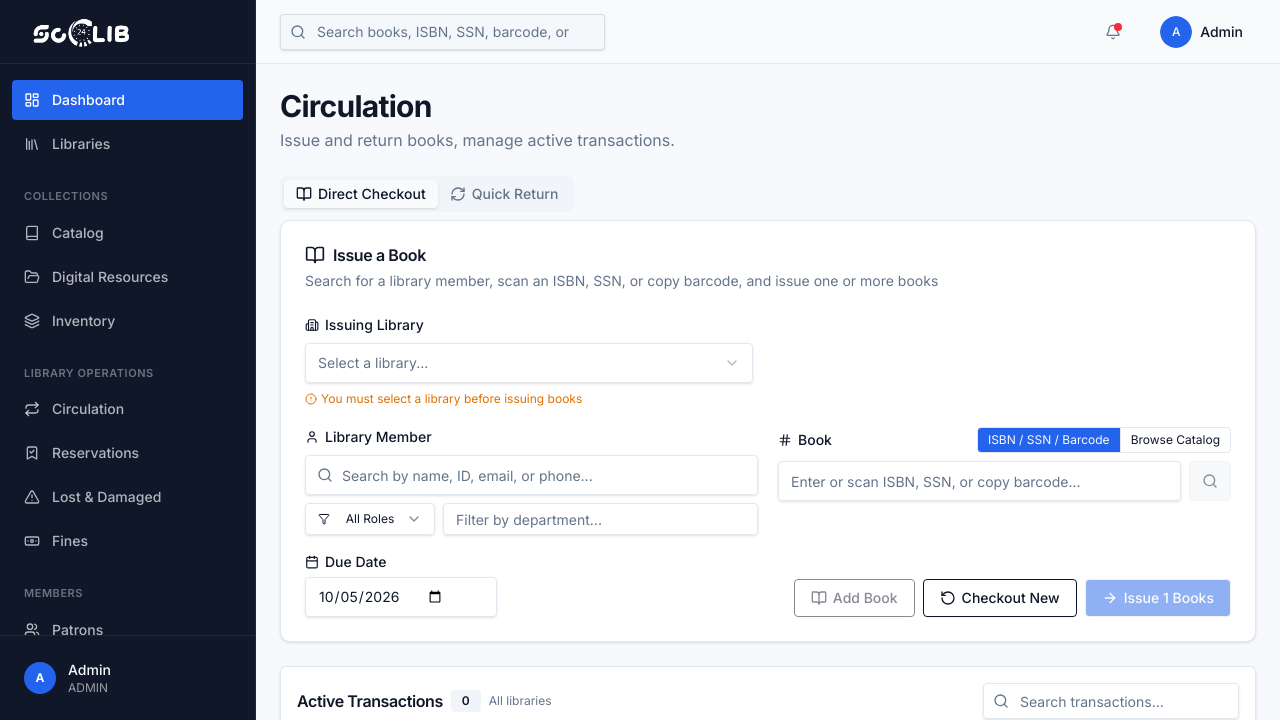
it: CirculationPage checkout › keeps Issue Book disabled until library, member, book, and copy prerequisites are ready
expect the button with test id "button-issue" is disabled: met, box x1=1085 y1=579 x2=1231 y2=617
Click the dropdown with test id "select-library".
click(373, 362)  # box x1=305 y1=343 x2=753 y2=383
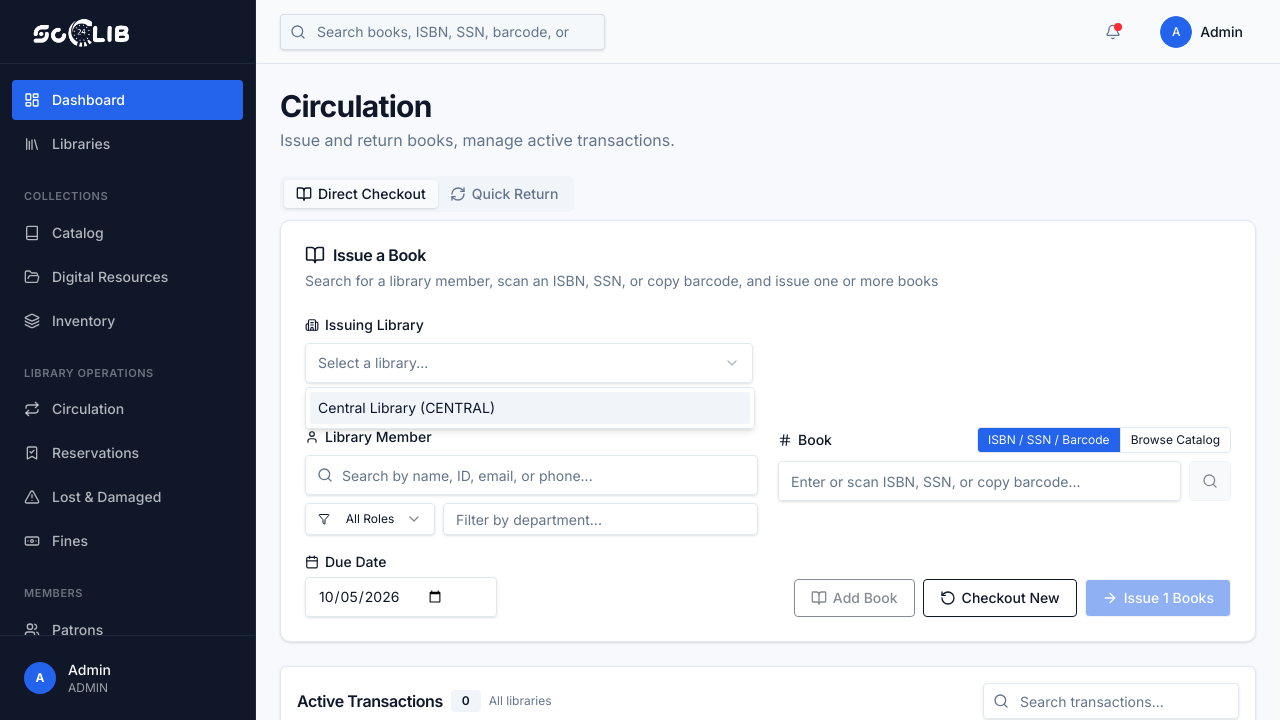
Click the option "Central Library (CENTRAL)".
click(367, 408)  # box x1=310 y1=392 x2=750 y2=424
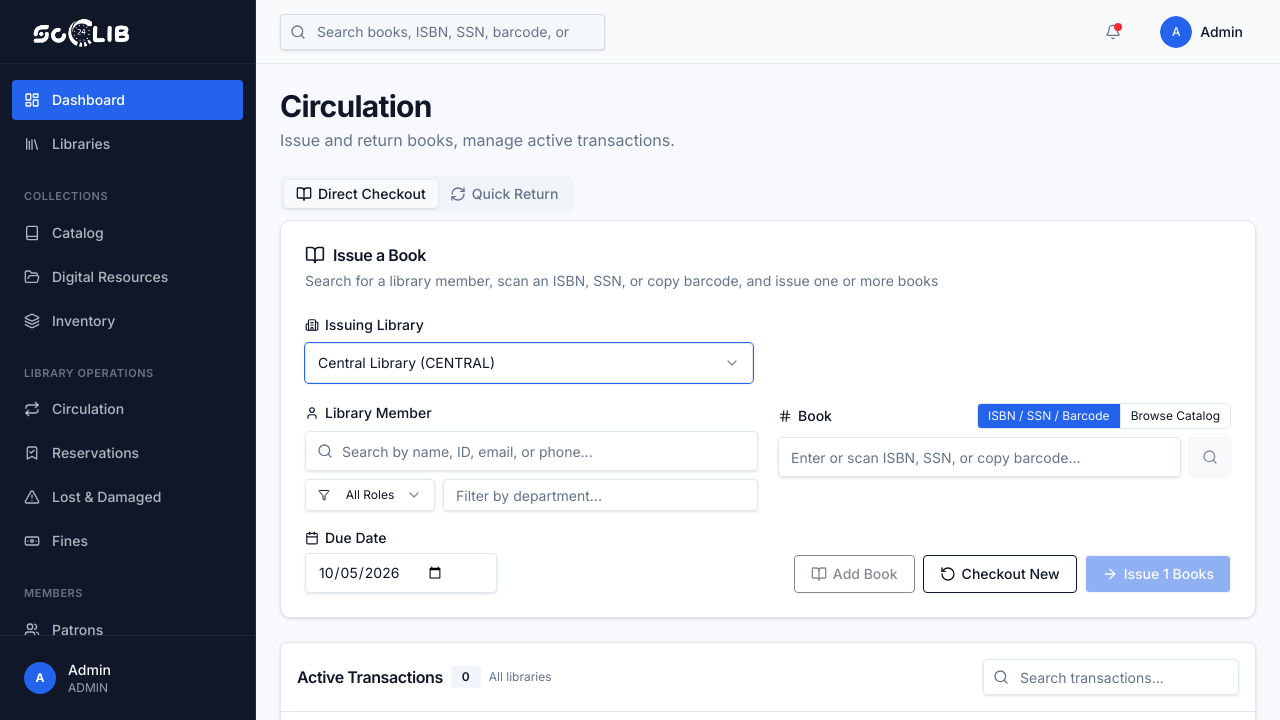
expect the button with test id "button-issue" is disabled: met, box x1=1085 y1=555 x2=1231 y2=593
Click the field with test id "input-member-search".
click(532, 451)  # box x1=305 y1=431 x2=758 y2=471
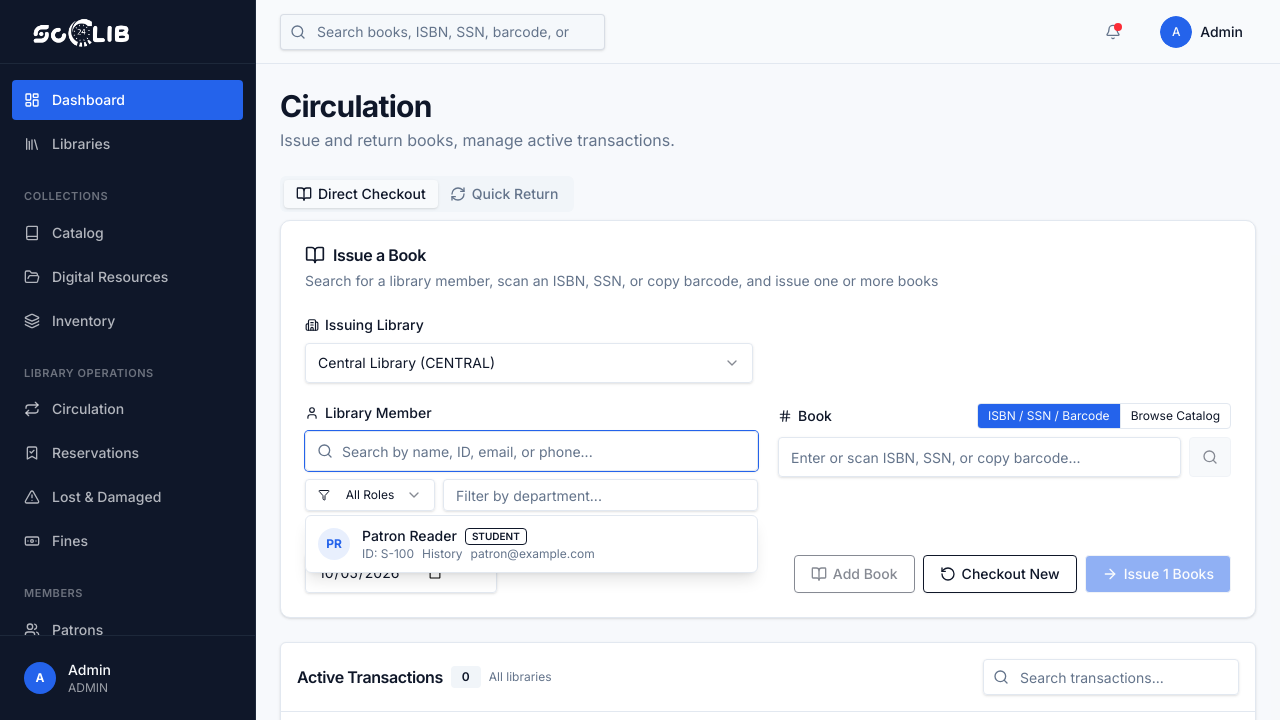
Click the button with test id "button-select-member-2".
click(532, 544)  # box x1=306 y1=516 x2=757 y2=572
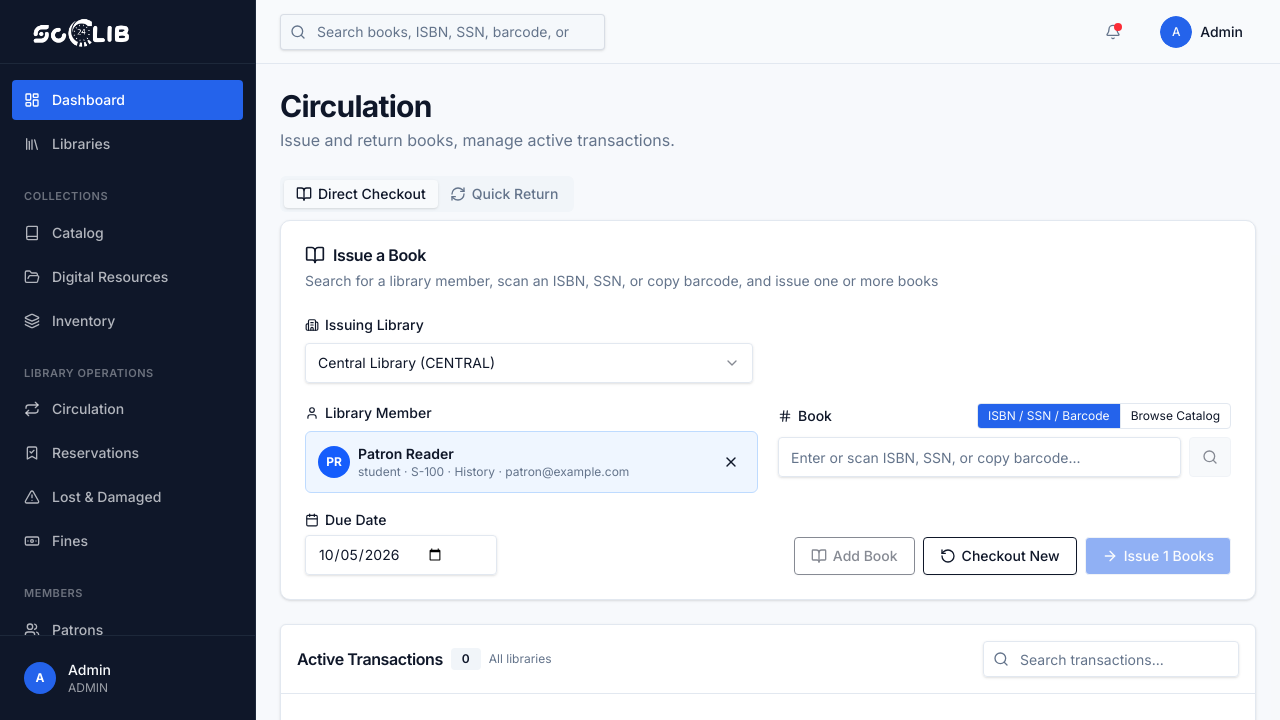
expect the button with test id "button-issue" is disabled: met, box x1=1085 y1=537 x2=1231 y2=575
Type "9780132350884" into the field with test id "input-isbn".
click(980, 457); type("9780132350884")  # box x1=778 y1=437 x2=1181 y2=477
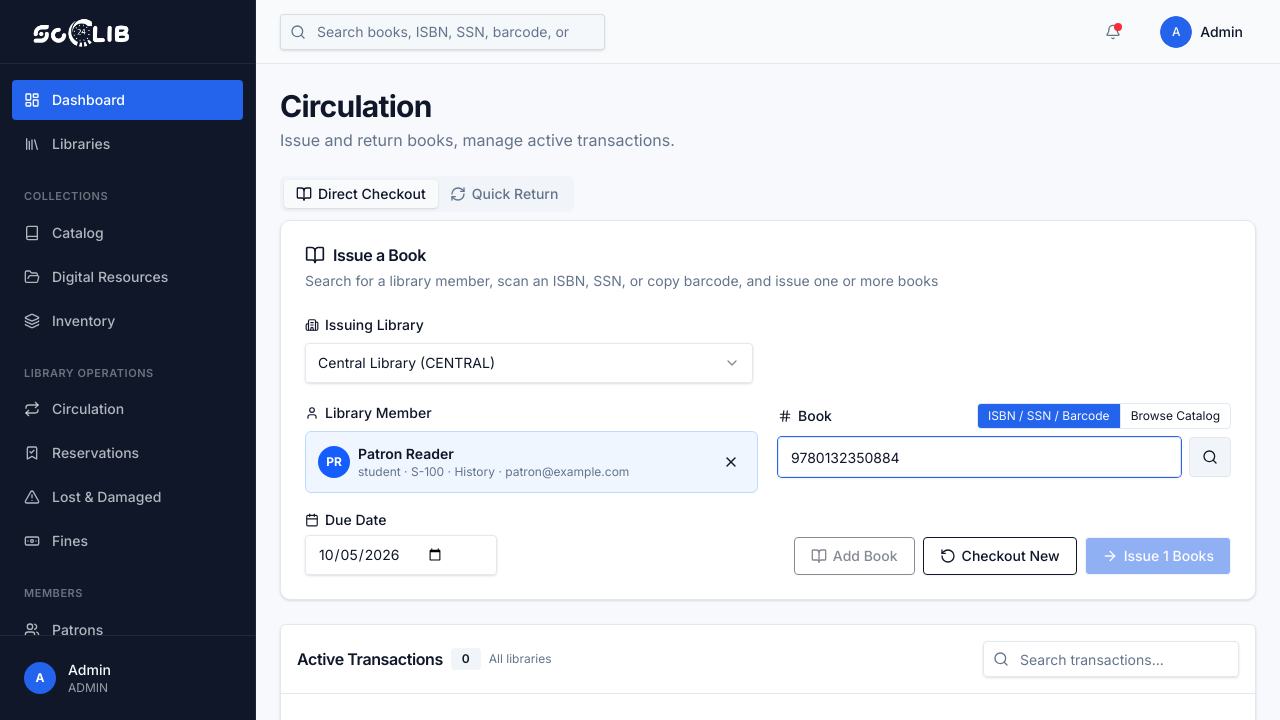
Click the button with test id "button-lookup-isbn".
click(1210, 457)  # box x1=1189 y1=437 x2=1231 y2=477
(page scrolled)
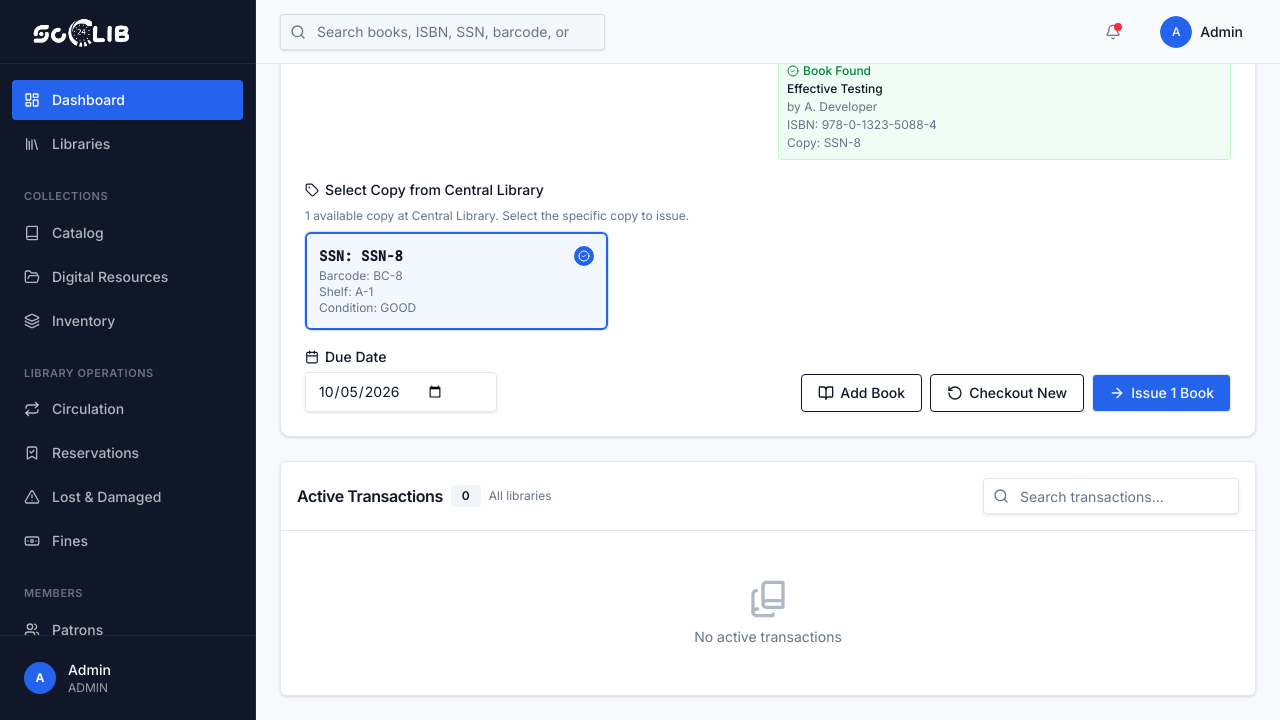
expect the button with test id "button-issue" is enabled: met, box x1=1092 y1=374 x2=1231 y2=412
